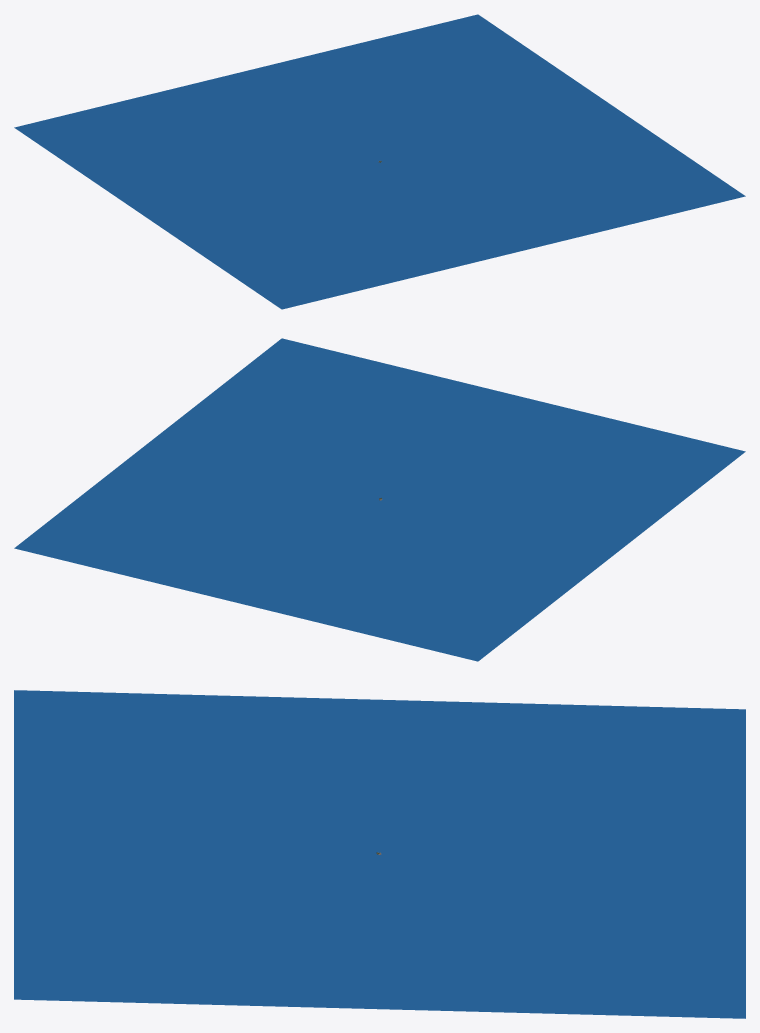
The model's file is Fortress_v5.glb.
3 views of the same model, one above another, from view 1: azimuth 30°, elevation 25°; view 2: azimuth 150°, elevation 25°; view 3: azimuth 270°, elevation 25° (orthographic). The views are drawn at different scales.
Visible parts, largest first — view 1: Water; view 2: Water; view 3: Water.
Part boxes in pixels (left/top/right/bottom): Water: left=14, top=14, right=745, bottom=309; Water: left=14, top=338, right=745, bottom=661; Water: left=14, top=690, right=745, bottom=1018.
Size of the model in its own units: 16517 by 478 by 16510.
55 materials, 25 textured.
